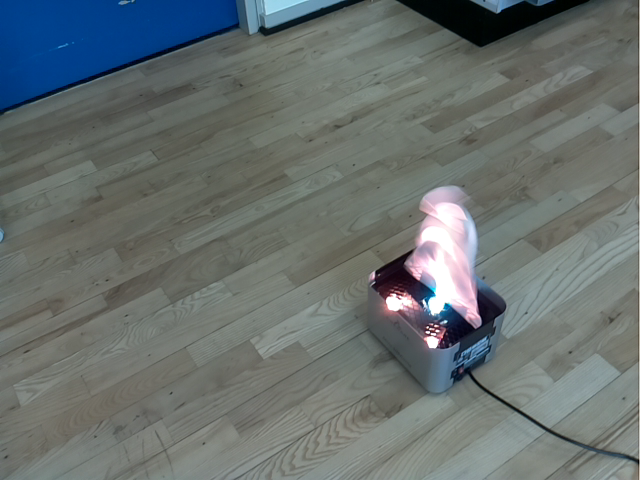fire: (402, 185, 481, 329)
